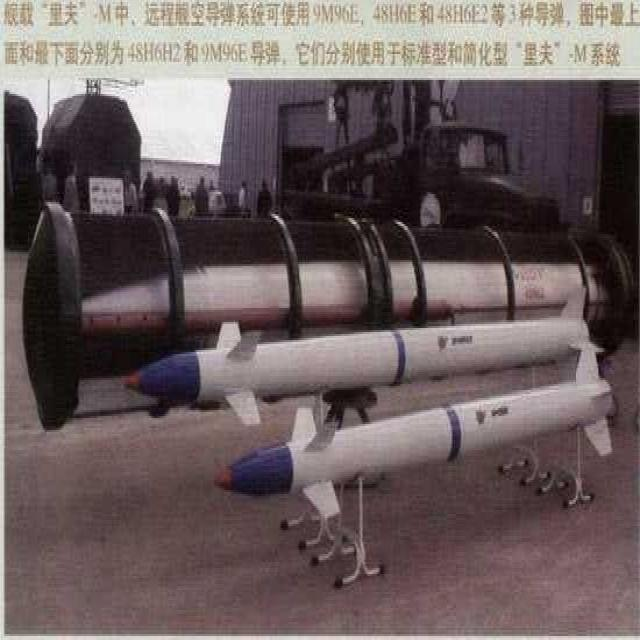missile: (217, 349, 623, 511), (79, 238, 616, 346), (130, 301, 598, 413)
